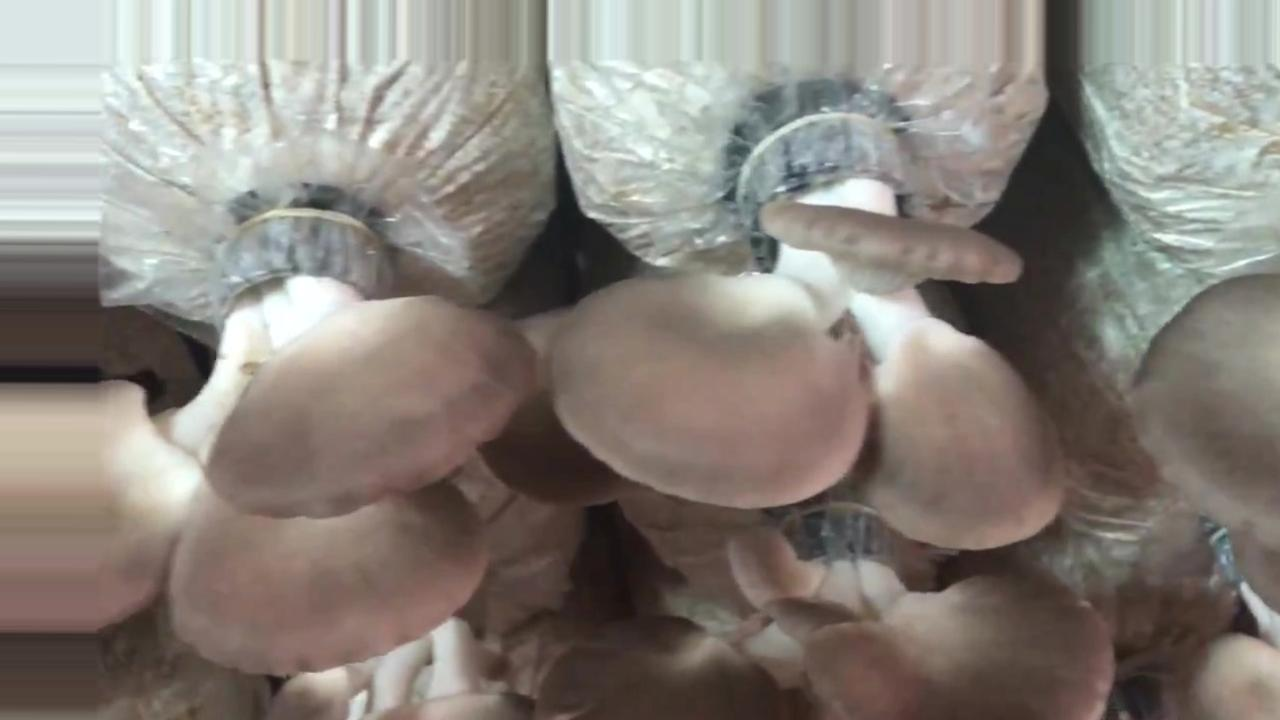nam: (1, 199, 536, 679), (550, 96, 1067, 548), (536, 498, 1109, 718), (1132, 275, 1280, 610)
